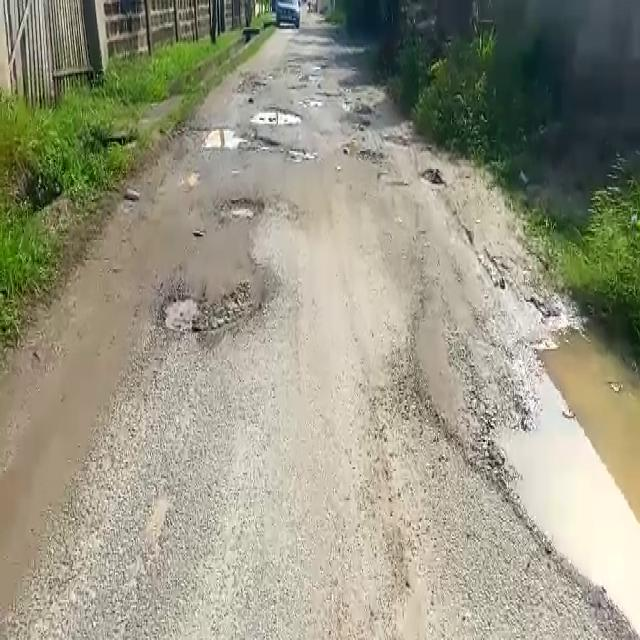Pothole: (490, 316, 640, 637), (159, 293, 250, 333), (202, 126, 248, 150), (251, 106, 303, 126), (218, 195, 264, 217)
